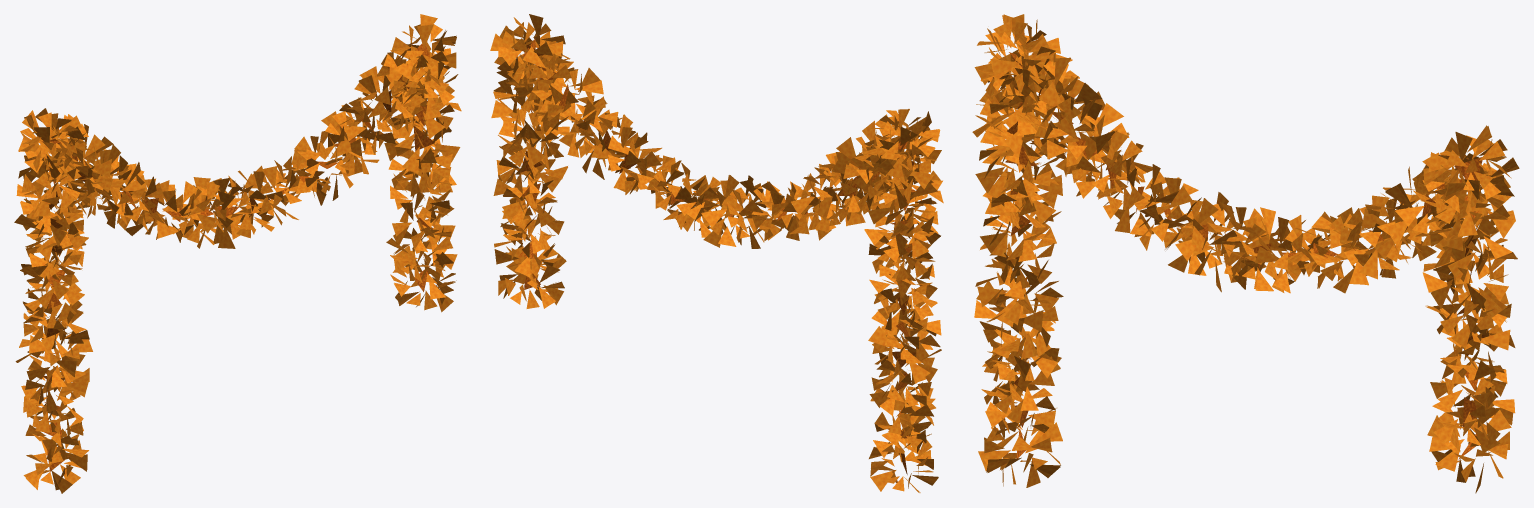
The model's file is guirnalda_lod.obj.
3 renders of one model, left to right at view 1: azimuth 30°, elevation 25°; view 2: azimuth 150°, elevation 25°; view 3: azimuth 330°, elevation 25°, orthographic. The views are drawn at different scales.
Visible parts, largest first — view 1: Cadena_Colgada_1, Cadena_Tira_1, Cadena_Tira_2; view 2: Cadena_Colgada_1, Cadena_Tira_1, Cadena_Tira_2; view 3: Cadena_Colgada_1, Cadena_Tira_1, Cadena_Tira_2.
Part boxes in pixels (<box>): Cadena_Colgada_1: <box>20,25,450,248</box>; Cadena_Tira_1: <box>14,108,92,493</box>; Cadena_Tira_2: <box>384,14,461,312</box>; Cadena_Colgada_1: <box>498,22,940,248</box>; Cadena_Tira_1: <box>864,114,943,492</box>; Cadena_Tira_2: <box>490,14,569,308</box>; Cadena_Colgada_1: <box>977,14,1509,293</box>; Cadena_Tira_1: <box>972,14,1068,487</box>; Cadena_Tira_2: <box>1422,125,1519,493</box>.
Size of the model in its own units: 3.55 by 2.94 by 0.5688.
2 materials, 2 textured.
